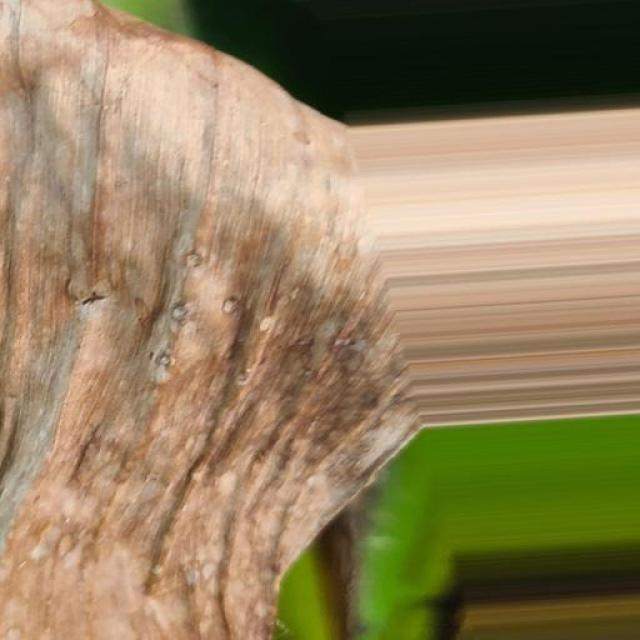Bract_mosaic_virus: (0, 3, 417, 640)
